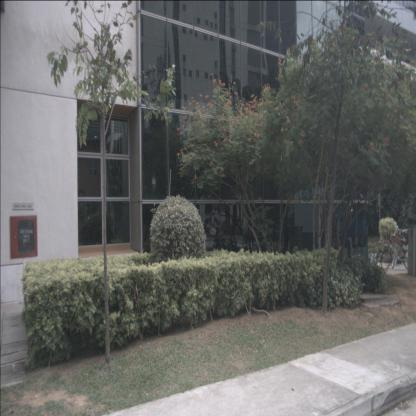vehicle-bicycle: (380, 228, 415, 270), (392, 220, 416, 270)
